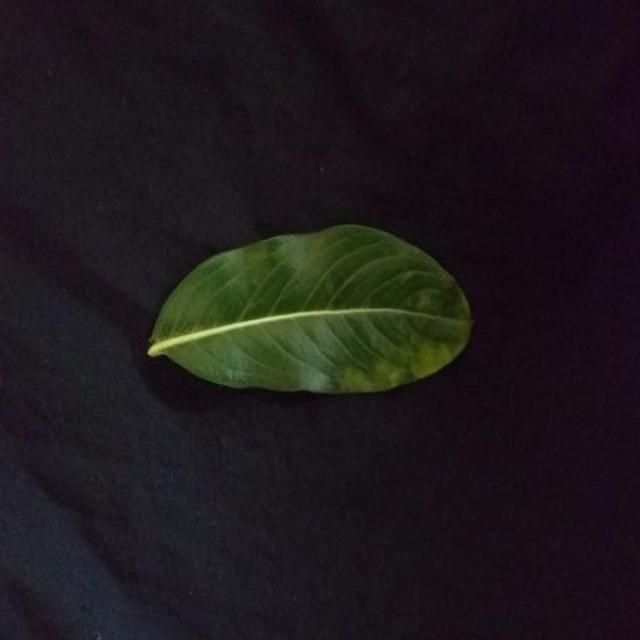catharanthus: (148, 225, 472, 393)
